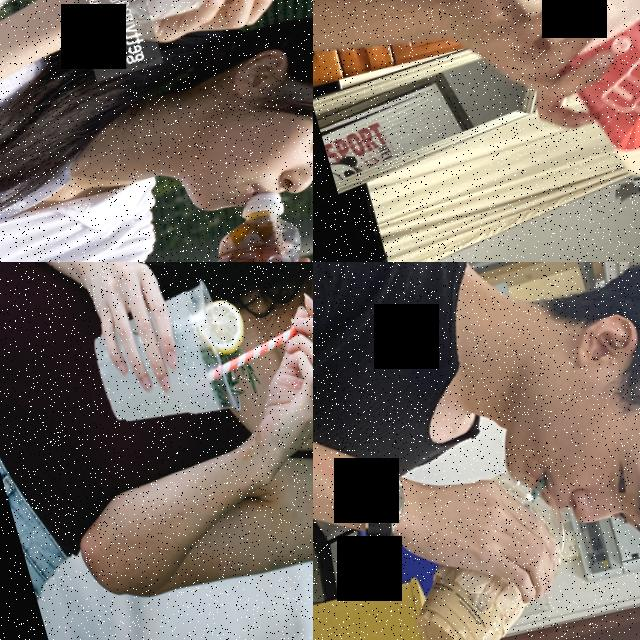bottle: (142, 186, 313, 262)
cup: (384, 462, 595, 640), (79, 274, 247, 448), (499, 0, 640, 200)
